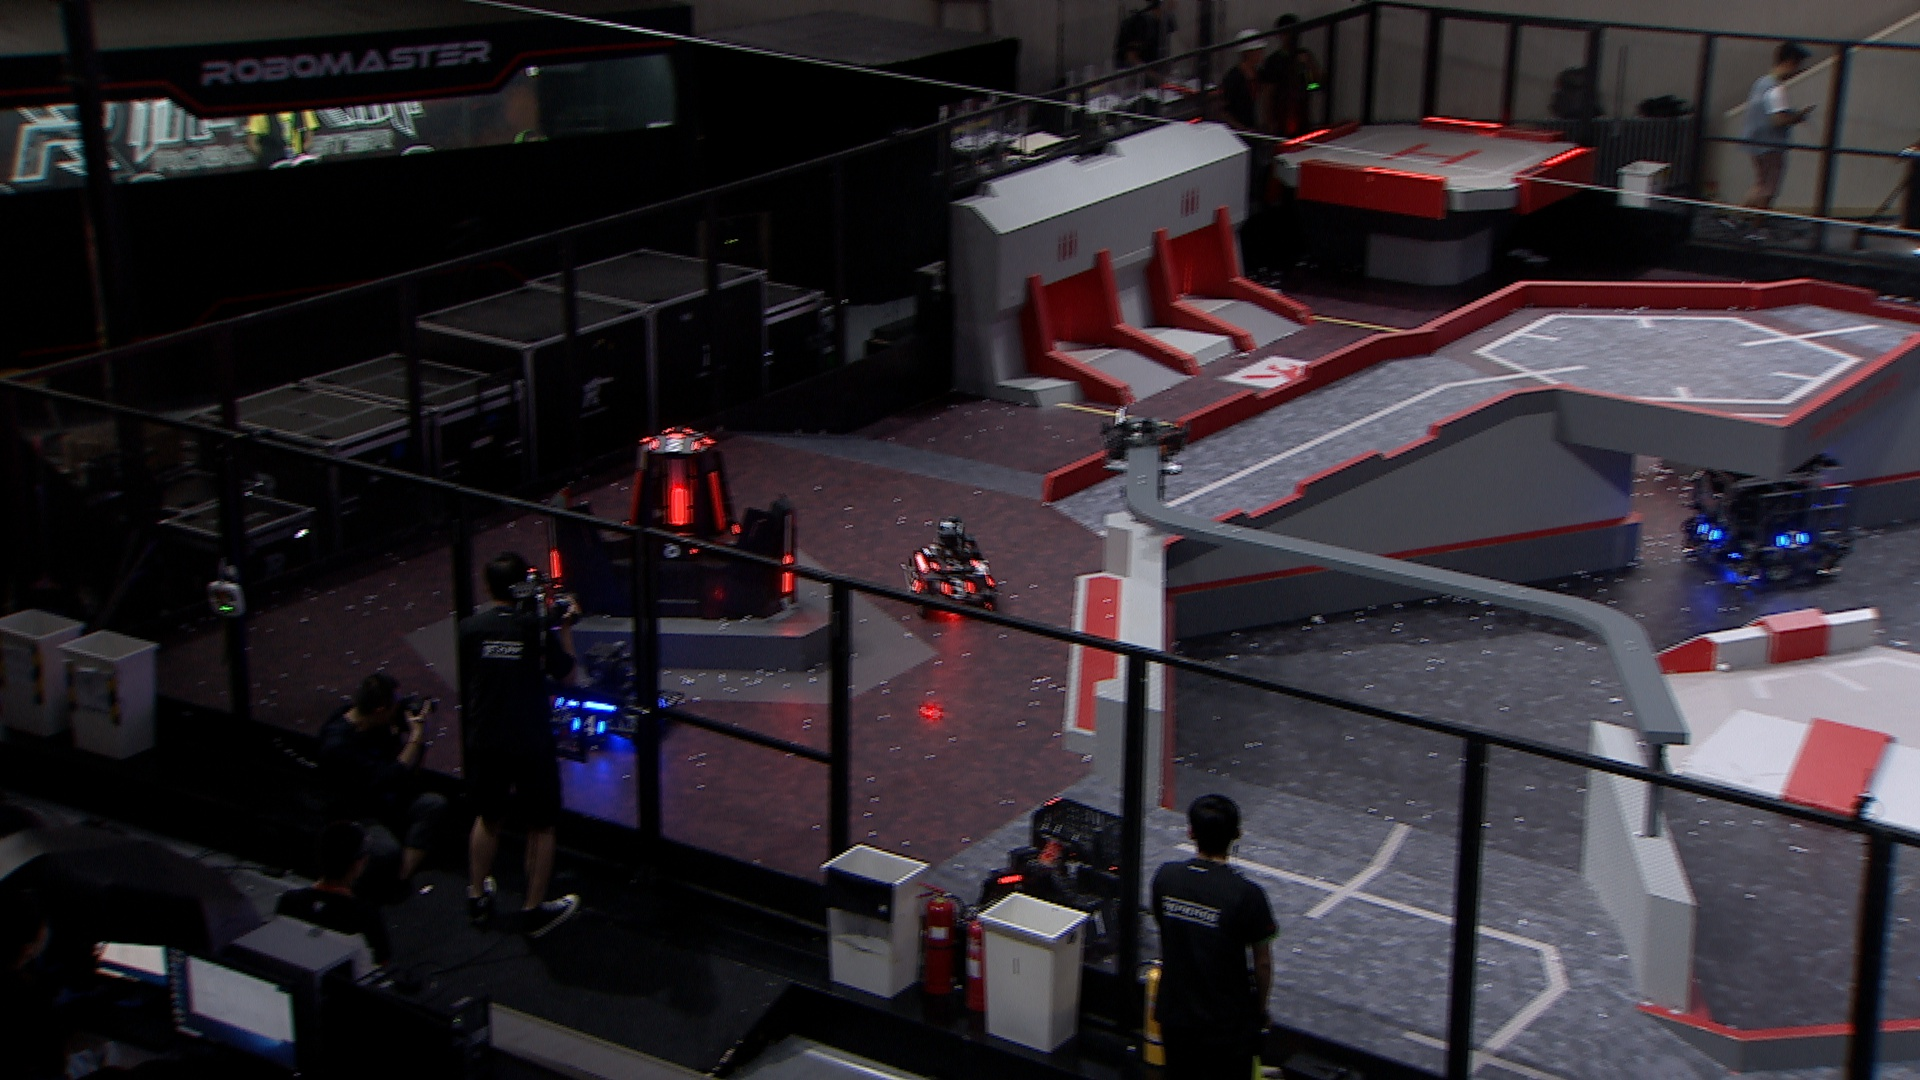armor: (1072, 899, 1116, 942), (708, 471, 731, 531), (626, 463, 645, 531), (669, 485, 694, 531), (646, 436, 699, 456), (654, 535, 698, 556), (938, 578, 977, 597), (567, 716, 604, 736), (547, 546, 562, 593), (781, 553, 794, 595), (971, 556, 992, 583), (1778, 531, 1807, 550), (1695, 524, 1720, 543), (909, 568, 924, 593)
base: (541, 425, 799, 622)
car: (972, 796, 1149, 967), (1677, 438, 1858, 600), (537, 636, 678, 760), (903, 516, 1000, 617)
watcher: (1096, 400, 1193, 508)
